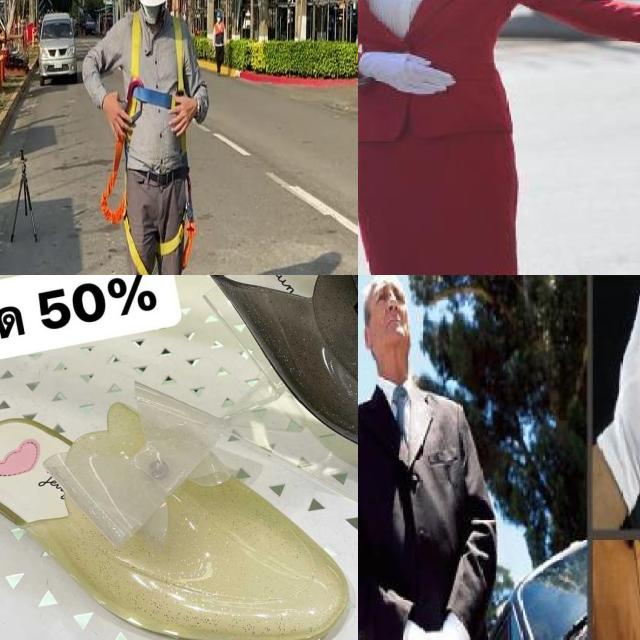Harness: (100, 137, 151, 275), (127, 11, 186, 119), (159, 167, 197, 270)
Sandals: (0, 391, 358, 640), (113, 275, 358, 515)
face_nomask: (371, 279, 405, 350)
hand_glove: (608, 291, 640, 489), (362, 50, 457, 96), (400, 622, 466, 640)
head_nohelmet: (358, 275, 406, 294)
person: (358, 0, 597, 275), (358, 277, 509, 640)
